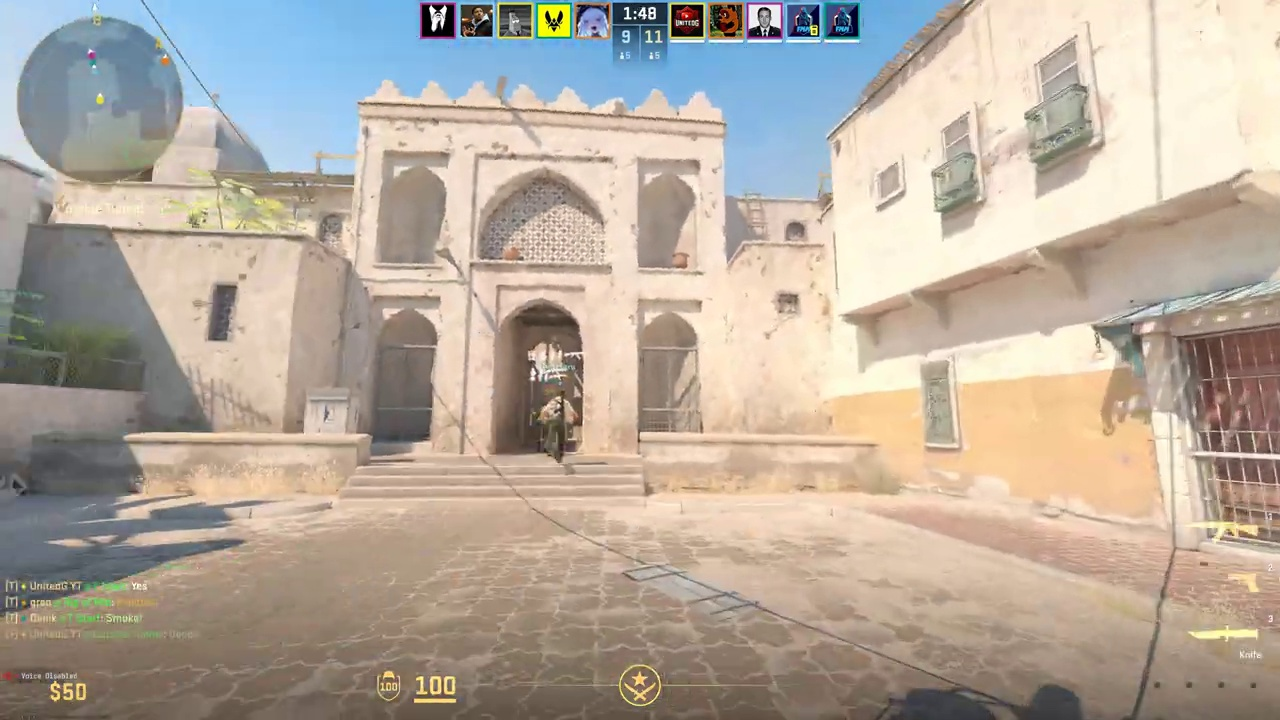Terrorist: (540, 394, 569, 463)
